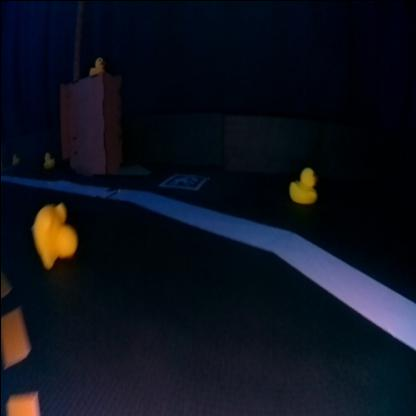Duckie: (32, 205, 74, 264), (288, 166, 314, 200), (88, 56, 102, 74), (42, 151, 52, 165), (12, 154, 18, 162)
QR code: (157, 172, 206, 190)
